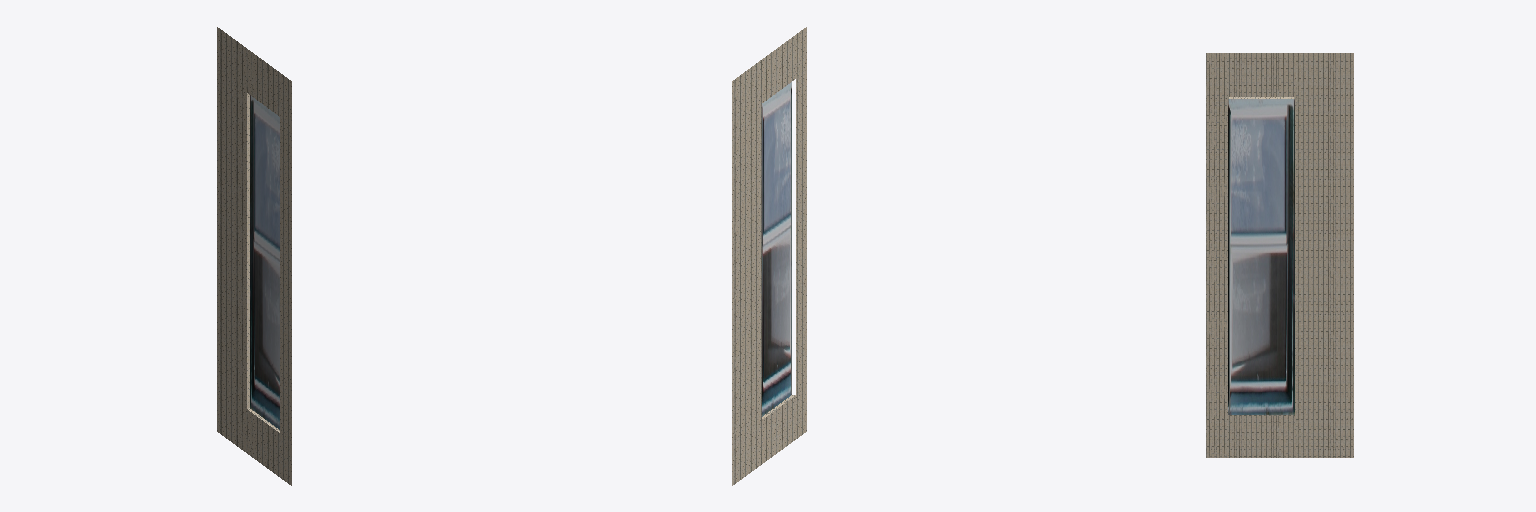
3 views of the same model, side by side, from view 1: azimuth 30°, elevation 25°; view 2: azimuth 150°, elevation 25°; view 3: azimuth 270°, elevation 25° (orthographic).
Parts seen in each view (by area): view 1: Plane001, Plane002; view 2: Plane001, Plane002; view 3: Plane001, Plane002.
Part boxes in pixels (x1,y1,x2,y2): Plane001: (217,27,291,485); Plane002: (250,95,279,429); Plane001: (732,27,806,485); Plane002: (762,82,791,416); Plane001: (1206,53,1353,457); Plane002: (1228,99,1294,414).
Size of the model in its own units: 5 by 602 by 200.
2 materials, 2 textured.